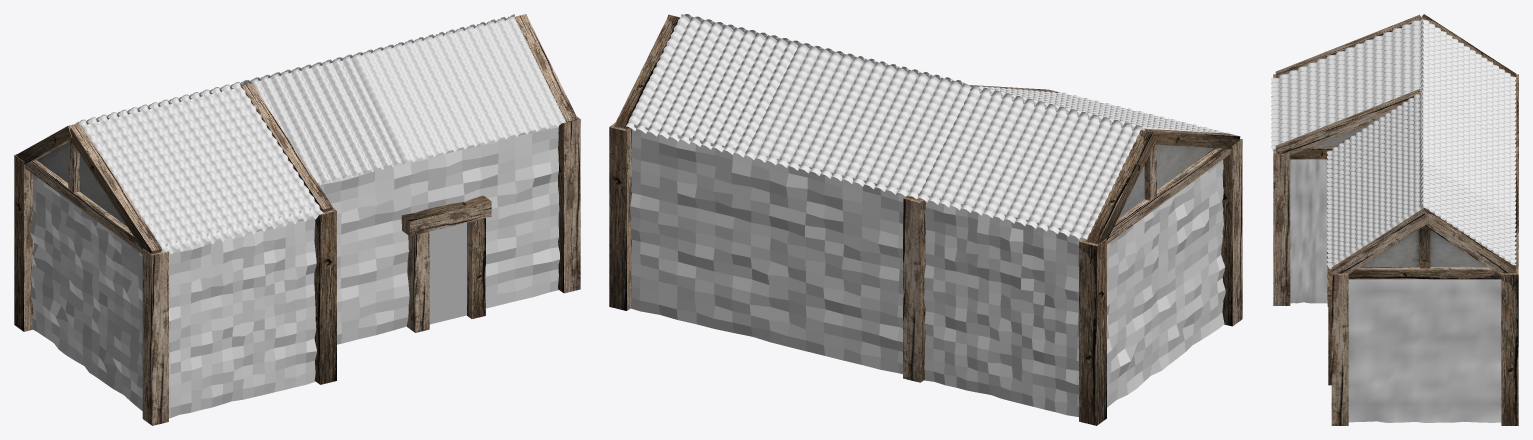
Rendered from medieval_house.fbx.
3 renders of one model, left to right at view 1: azimuth 30°, elevation 25°; view 2: azimuth 150°, elevation 25°; view 3: azimuth 270°, elevation 25°, orthographic. The views are drawn at different scales.
Visible parts, largest first — view 1: house_01_wall_02, house_02_wall_01, Plane.001, Plane.006, house_02_wall_03, Plane.005, house_02_column_02, house_01_column_02, house_02_column_01, house_01_Door, house_02_column_03, house_02_roof_column_01 (+9 smaller); view 2: house_01_wall_02.001, house_02_wall_04, Plane.002, Plane.003, house_02_wall_03, Plane.004, house_02_column_03, house_01_column_03, house_01_column_04, house_02_column_02, Plane.001, house_02_roof_column_02 (+5 smaller); view 3: house_01_wall_03, Plane.001, Plane.006, Plane.003, Plane.002, house_02_wall_02, Plane.004, Plane.005, house_01_column_03, house_02_column_01, house_01_column_02, Cone (+12 smaller).
Boxes of the visible parts, bbox=[...] form: house_01_wall_02: bbox=[317, 125, 559, 344]; house_02_wall_01: bbox=[165, 208, 316, 418]; Plane.001: bbox=[78, 82, 324, 255]; Plane.006: bbox=[351, 16, 566, 164]; house_02_wall_03: bbox=[30, 174, 142, 410]; Plane.005: bbox=[251, 56, 402, 184]; house_02_column_02: bbox=[142, 248, 168, 425]; house_01_column_02: bbox=[558, 117, 580, 293]; house_02_column_01: bbox=[314, 208, 336, 384]; house_01_Door: bbox=[429, 222, 466, 324]; house_02_column_03: bbox=[14, 154, 34, 331]; house_02_roof_column_01: bbox=[70, 125, 161, 253]; house_01_wall_02.001: bbox=[630, 124, 909, 374]; house_02_wall_04: bbox=[918, 194, 1083, 416]; Plane.002: bbox=[744, 43, 971, 198]; Plane.003: bbox=[917, 85, 1145, 239]; house_02_wall_03: bbox=[1107, 160, 1225, 407]; Plane.004: bbox=[626, 14, 798, 157]; house_02_column_03: bbox=[1079, 238, 1106, 425]; house_01_column_03: bbox=[609, 122, 632, 310]; house_01_column_04: bbox=[903, 195, 925, 382]; house_02_column_02: bbox=[1221, 138, 1242, 326]; Plane.001: bbox=[969, 85, 1230, 133]; house_02_roof_column_02: bbox=[1086, 130, 1156, 244]; house_01_wall_03: bbox=[1348, 279, 1501, 422]; Plane.001: bbox=[1271, 17, 1423, 151]; Plane.006: bbox=[1327, 136, 1422, 269]; Plane.003: bbox=[1420, 17, 1516, 147]; Plane.002: bbox=[1421, 88, 1516, 218]; house_02_wall_02: bbox=[1290, 159, 1327, 303]; Plane.004: bbox=[1420, 159, 1516, 265]; Plane.005: bbox=[1327, 91, 1421, 195]; house_01_column_03: bbox=[1501, 267, 1518, 425]; house_02_column_01: bbox=[1273, 149, 1290, 305]; house_01_column_02: bbox=[1331, 273, 1348, 425]; Cone: bbox=[1360, 229, 1487, 267].
Size of the model in its own units: 1655 by 832 by 866.
